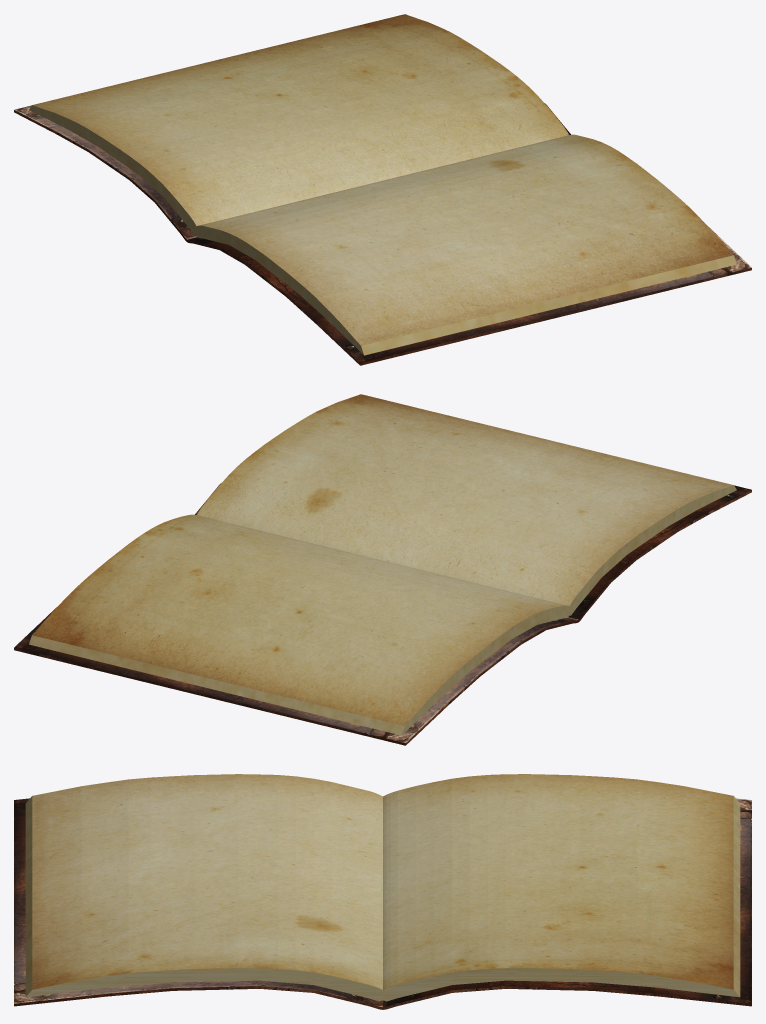
File: notebook.fbx
3 views of the same model, one above another, from view 1: azimuth 30°, elevation 25°; view 2: azimuth 150°, elevation 25°; view 3: azimuth 270°, elevation 25° (orthographic). The views are drawn at different scales.
Visible parts, largest first — view 1: Cube; view 2: Cube; view 3: Cube.
Boxes of the visible parts, x1,y1,x2,y2 form: Cube: (14, 14, 751, 365); Cube: (14, 394, 751, 745); Cube: (14, 774, 751, 1009).
Bounding box in the file's own units: 320 × 27.14 × 490.
2 materials, 2 textured.
